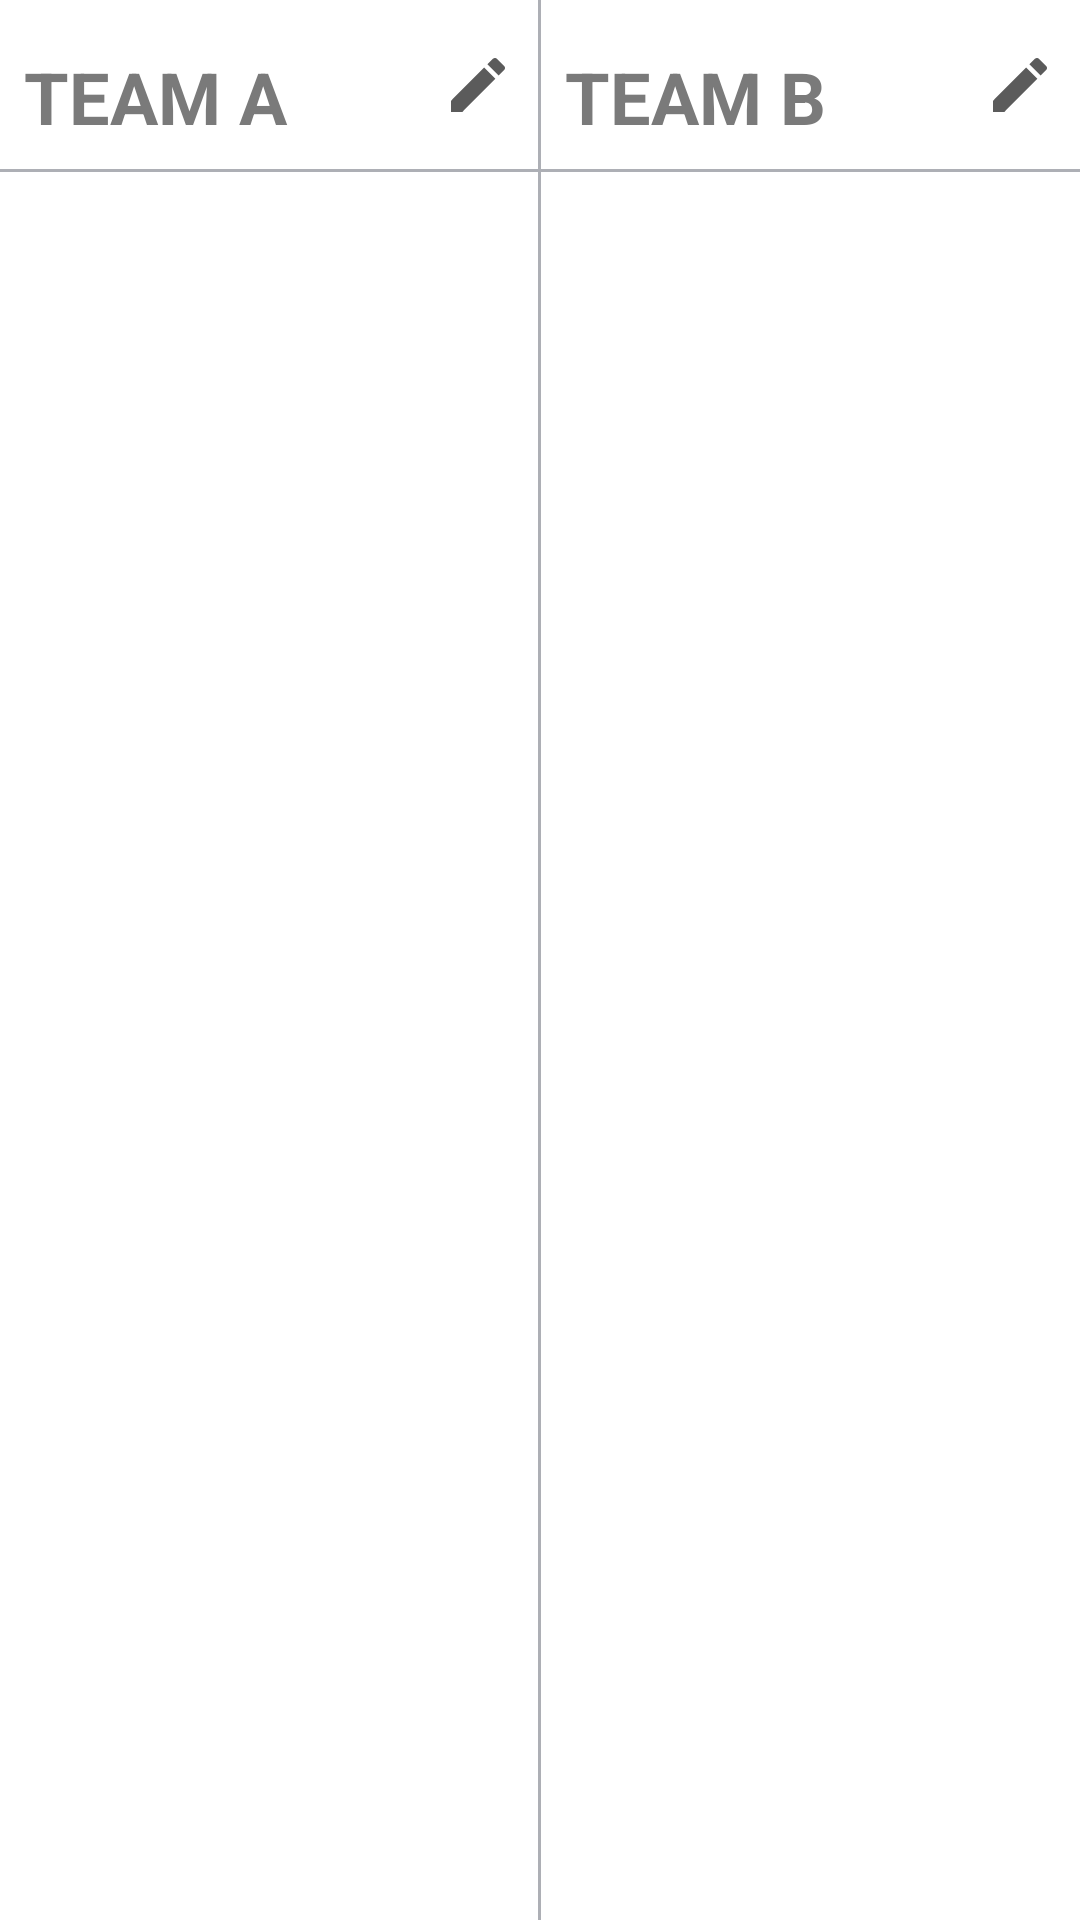

Where to tap for icons on this 1080w x 1920h app screen, as [x,y]:
edit: [478,85], [1020,85]
